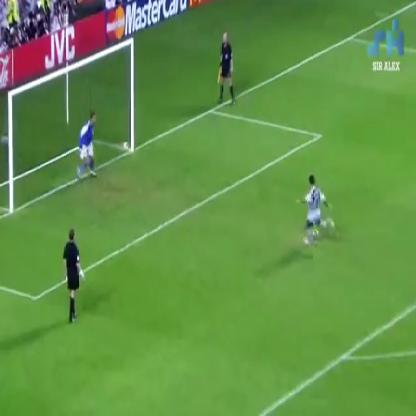penalty kick: (4, 53, 350, 259)
